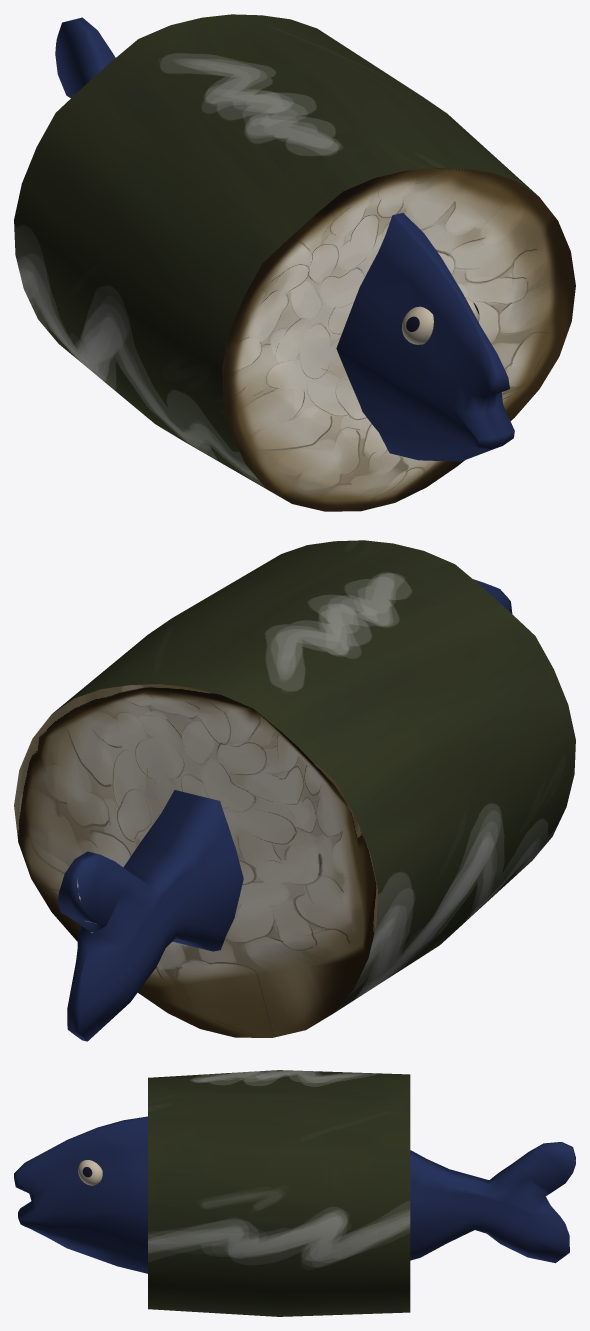
File: sushi.glb
3 views of the same model, one above another, from view 1: azimuth 30°, elevation 25°; view 2: azimuth 150°, elevation 25°; view 3: azimuth 270°, elevation 25° (orthographic). The views are drawn at different scales.
Parts seen in each view (by area): view 1: sushiroll, sushiroll.001, fish; view 2: sushiroll, sushiroll.001, fish; view 3: sushiroll, fish.
Boxes of the visible parts, <box> form: sushiroll: <box>14,14,538,500</box>; sushiroll.001: <box>222,167,575,511</box>; fish: <box>55,17,514,461</box>; sushiroll: <box>53,540,575,1012</box>; sushiroll.001: <box>14,684,377,1037</box>; fish: <box>58,579,512,1041</box>; sushiroll: <box>148,1070,410,1316</box>; fish: <box>14,1116,575,1273</box>.
Size of the model in its own units: 11.77 by 10.48 by 23.49.
Materials: 4 (3 with a texture image).
